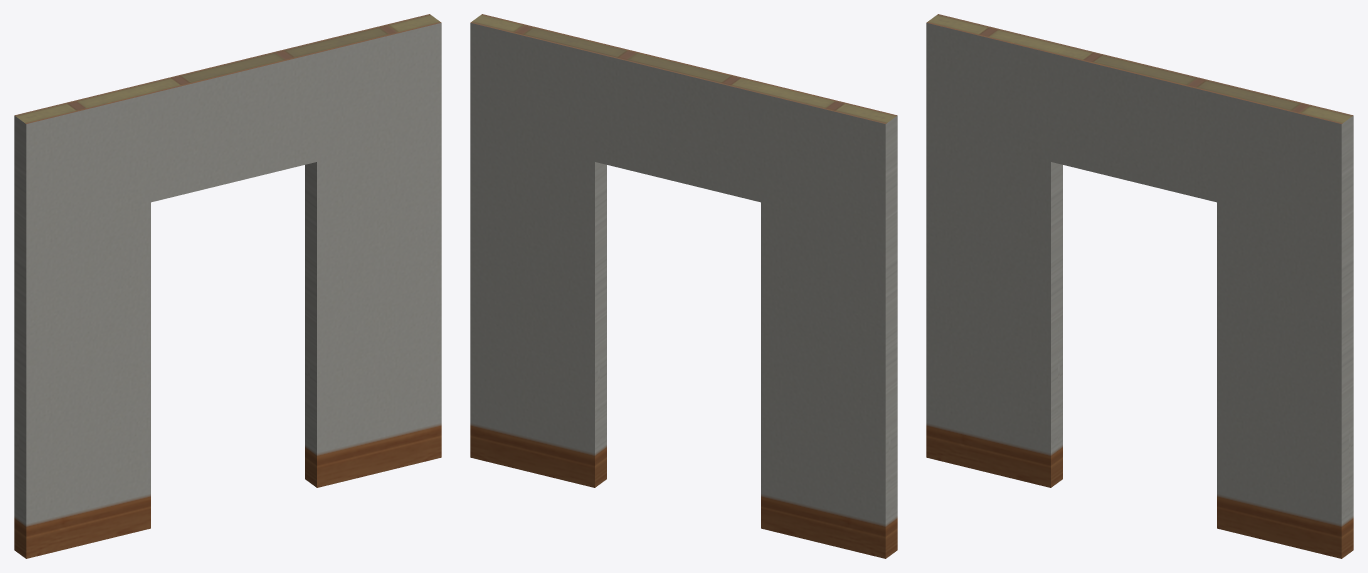
Rendered from wall4_2.fbx.
3 views of the same model, side by side, from view 1: azimuth 30°, elevation 25°; view 2: azimuth 150°, elevation 25°; view 3: azimuth 330°, elevation 25° (orthographic).
Parts seen in each view (by area): view 1: wall4_white_b; view 2: wall4_white_b; view 3: wall4_white_b.
Boxes of the visible parts, <box> form: wall4_white_b: <box>14,14,441,558</box>; wall4_white_b: <box>470,14,897,558</box>; wall4_white_b: <box>926,14,1353,558</box>.
Bounding box in the file's own units: 400 × 400 × 20.
